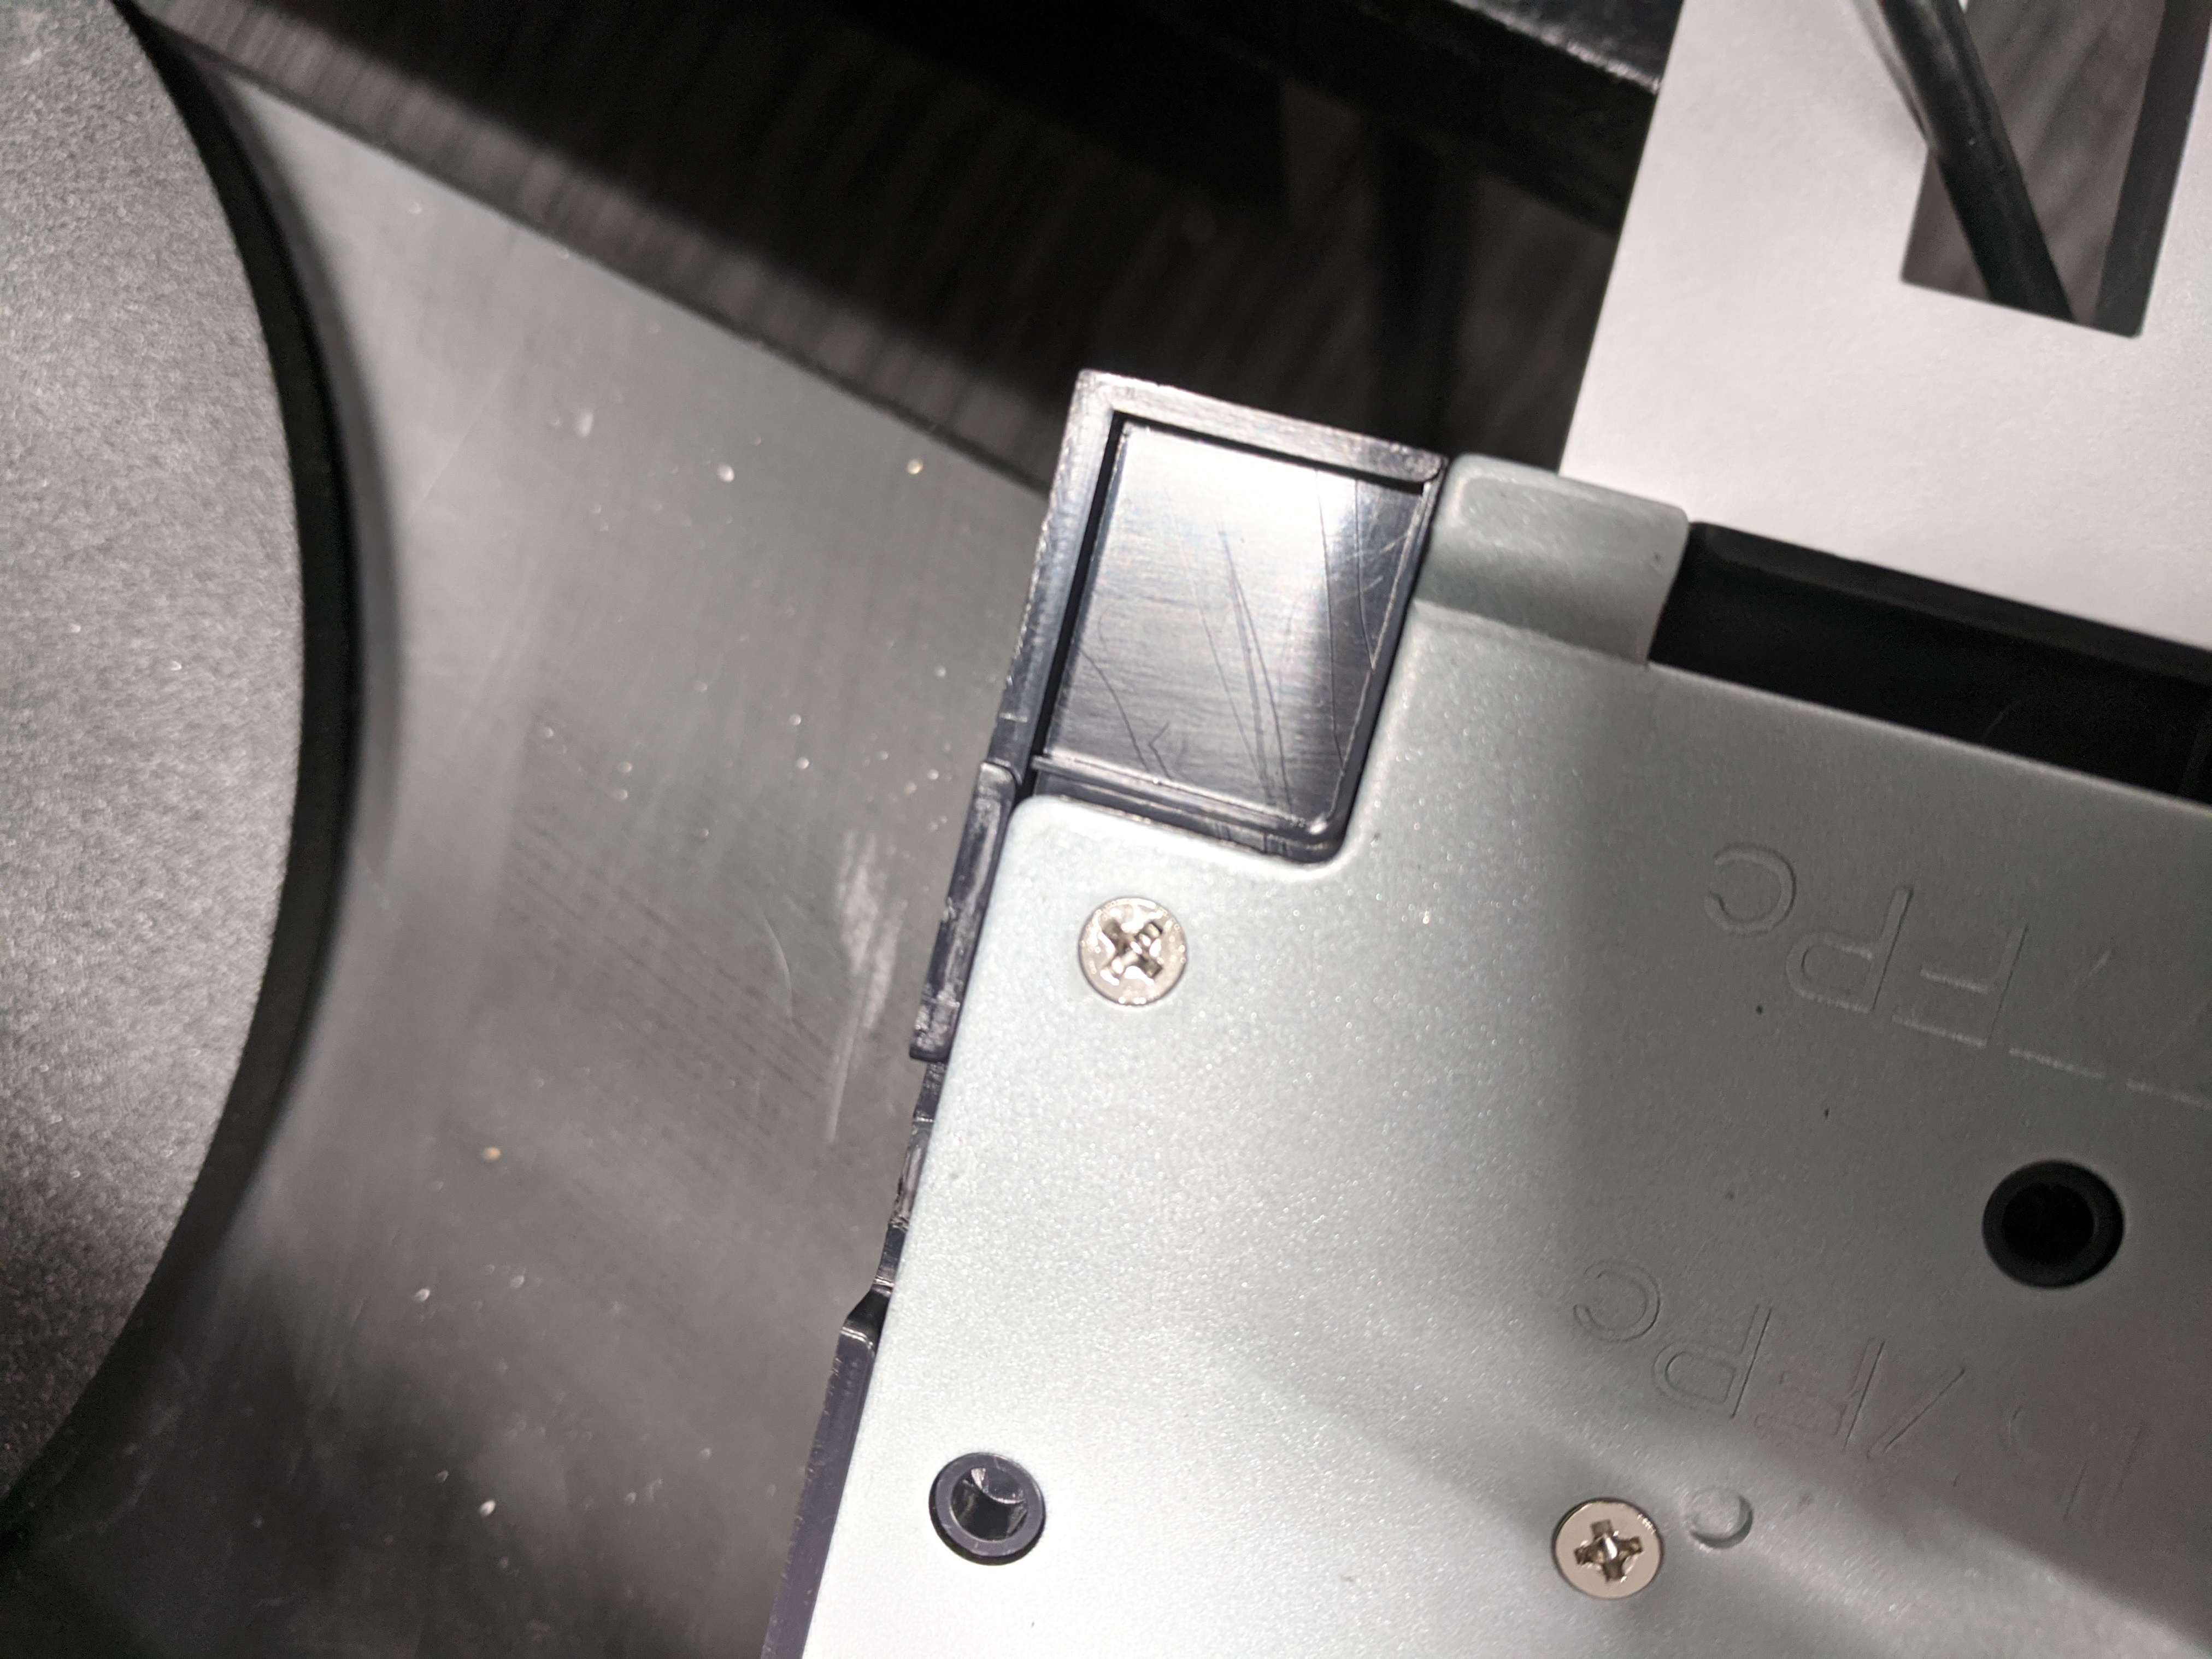cross_recessed_screw: (1069, 882, 1198, 1016), (1543, 1481, 1672, 1615)
